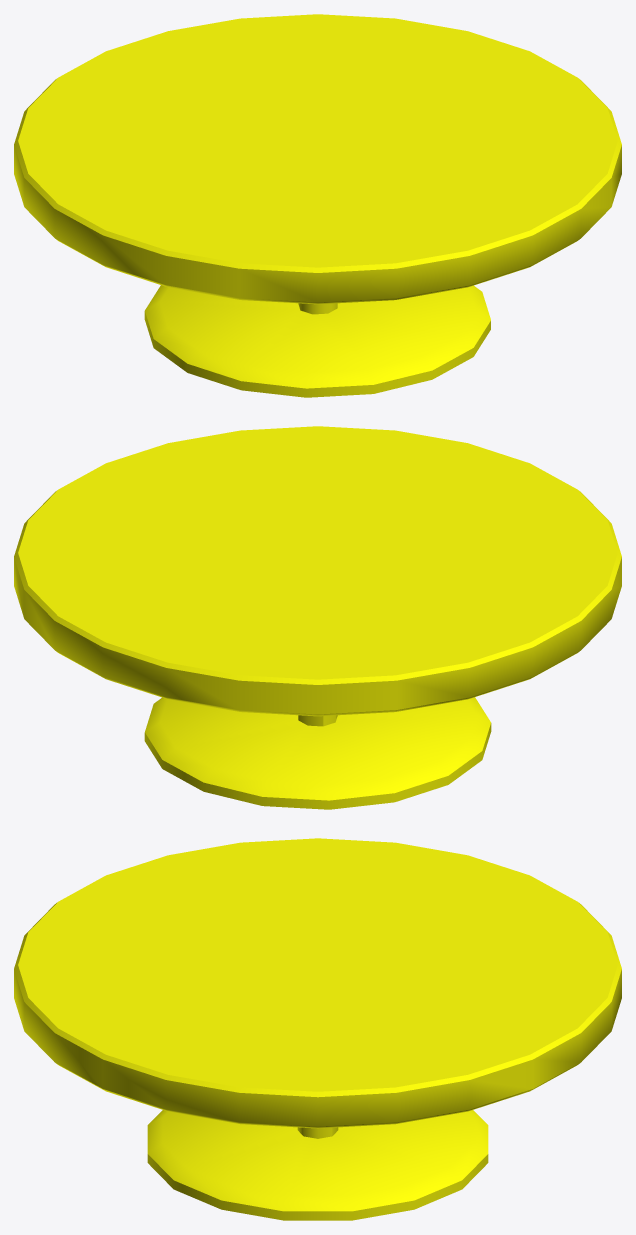
File: kaykit-table-round-a.glb
3 views of the same model, one above another, from view 1: azimuth 30°, elevation 25°; view 2: azimuth 150°, elevation 25°; view 3: azimuth 270°, elevation 25° (orthographic).
Parts seen in each view (by area): view 1: table_round_A; view 2: table_round_A; view 3: table_round_A.
Part boxes in pixels (box(x1,y1,x2,y2)): table_round_A: box(14, 14, 621, 397); table_round_A: box(14, 426, 621, 809); table_round_A: box(14, 838, 621, 1220).
Bounding box in the file's own units: 3 × 0.9999 × 3.
